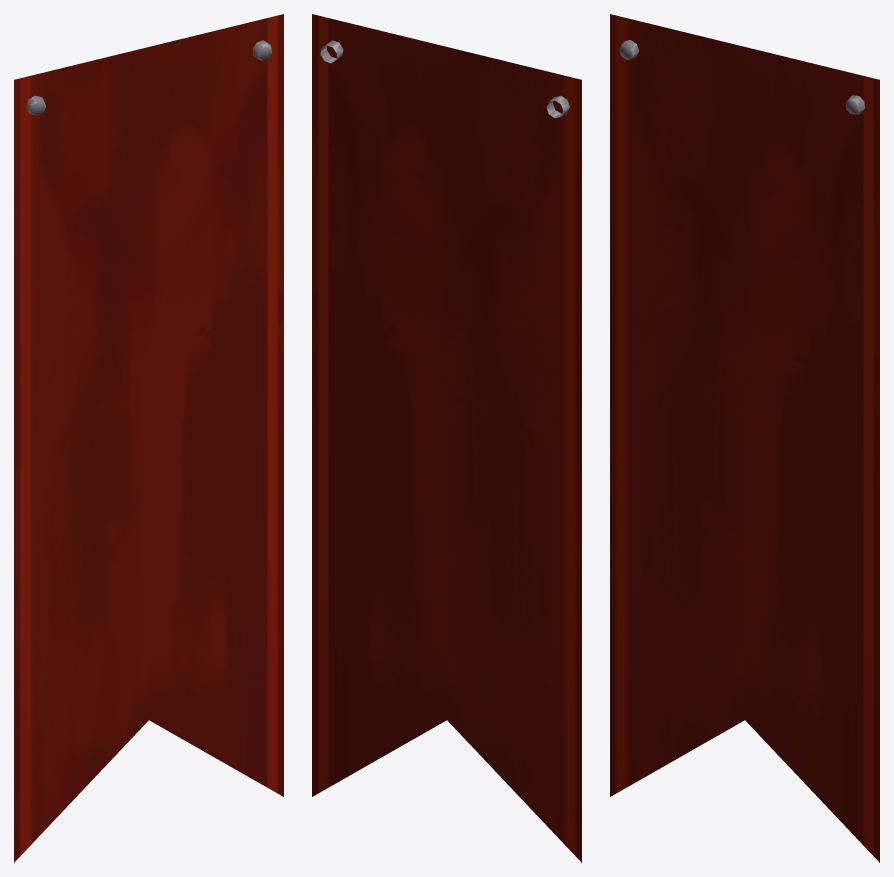
The model's file is prop_banner_1_cloth.glb.
3 renders of one model, left to right at view 1: azimuth 30°, elevation 25°; view 2: azimuth 150°, elevation 25°; view 3: azimuth 330°, elevation 25°, orthographic.
Visible parts, largest first — view 1: Cube227_1, Cube227; view 2: Cube227_1, Cube227; view 3: Cube227_1, Cube227.
Part boxes in pixels (x1=…): Cube227_1: x1=14, y1=14, x2=283, y2=862; Cube227: x1=26, y1=40, x2=271, y2=115; Cube227_1: x1=312, y1=14, x2=581, y2=862; Cube227: x1=320, y1=40, x2=569, y2=118; Cube227_1: x1=610, y1=14, x2=879, y2=862; Cube227: x1=619, y1=40, x2=864, y2=114.
Size of the model in its own units: 0.8101 by 2.25 by 0.0567.
2 materials, 2 textured.
